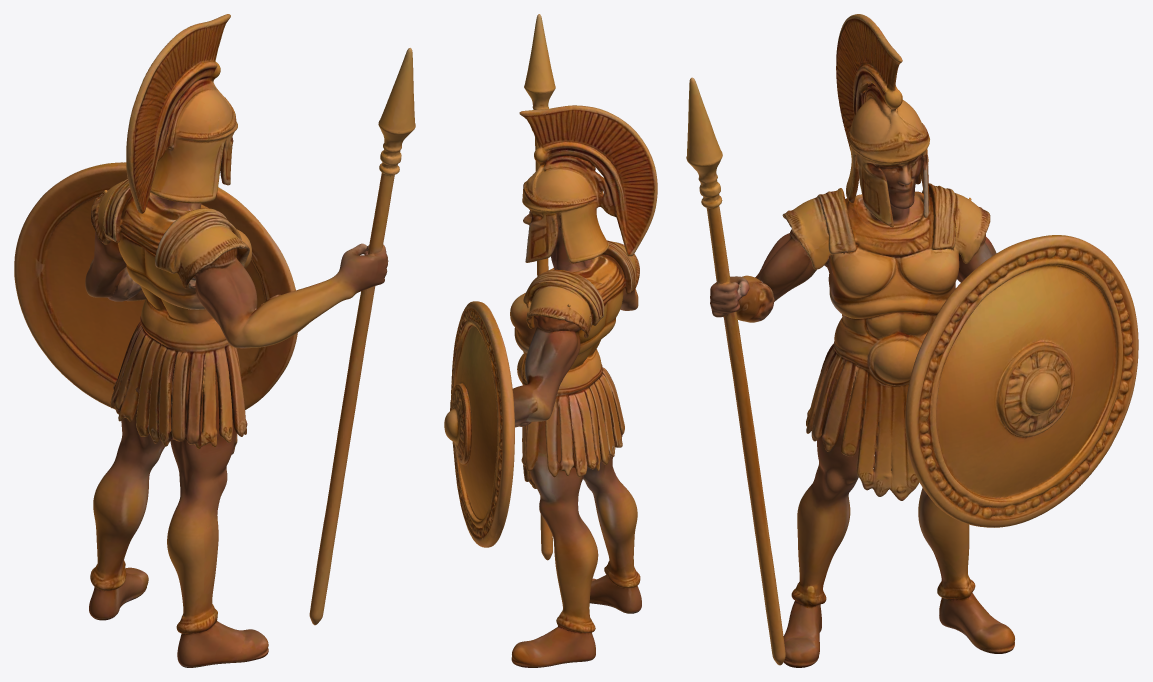
The model's file is mesh.glb.tmp-opt.glb.
3 renders of one model, left to right at view 1: azimuth 30°, elevation 25°; view 2: azimuth 150°, elevation 25°; view 3: azimuth 270°, elevation 25°, orthographic. The views are drawn at different scales.
Parts seen in each view (by area): view 1: tripo_node_a38171f9-357f-4164-925d-dcd02ef94356; view 2: tripo_node_a38171f9-357f-4164-925d-dcd02ef94356; view 3: tripo_node_a38171f9-357f-4164-925d-dcd02ef94356.
Part boxes in pixels (<box>): tripo_node_a38171f9-357f-4164-925d-dcd02ef94356: <box>14,14,415,667</box>; tripo_node_a38171f9-357f-4164-925d-dcd02ef94356: <box>444,14,657,667</box>; tripo_node_a38171f9-357f-4164-925d-dcd02ef94356: <box>686,14,1138,667</box>.
Bounding box in the file's own units: 0.3712 × 1 × 0.6411.
Materials: 1 (1 with a texture image).
